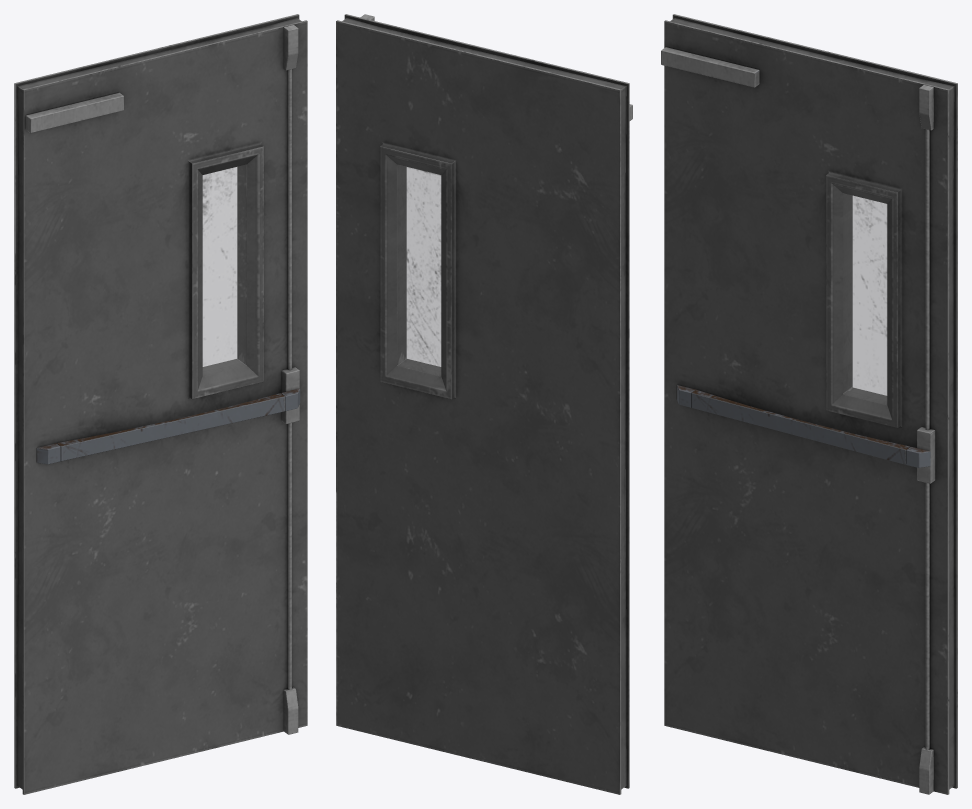
The model's file is mainDoor.glb.
3 renders of one model, left to right at view 1: azimuth 30°, elevation 25°; view 2: azimuth 150°, elevation 25°; view 3: azimuth 330°, elevation 25°, orthographic.
Visible parts, largest first — view 1: Jail_Door; view 2: Jail_Door; view 3: Jail_Door.
Part boxes in pixels (x1=…): Jail_Door: x1=14, y1=14, x2=307, y2=794; Jail_Door: x1=336, y1=14, x2=632, y2=794; Jail_Door: x1=661, y1=14, x2=957, y2=794.
Bounding box in the file's own units: 1.01 × 2.4 × 0.1399.
1 material, 1 textured.
